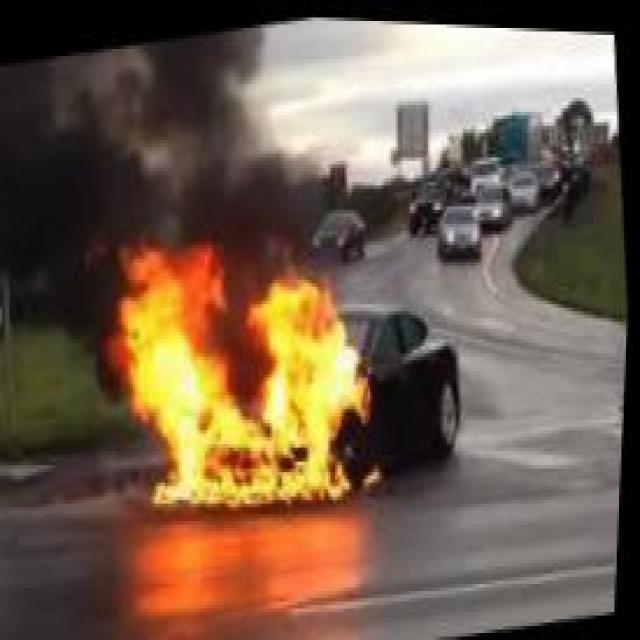Fire: (79, 178, 400, 556)
Smoke: (0, 0, 344, 273)
